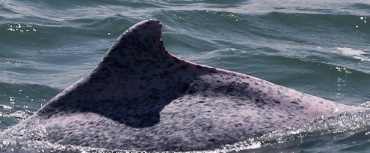fin: (3, 17, 362, 152)
